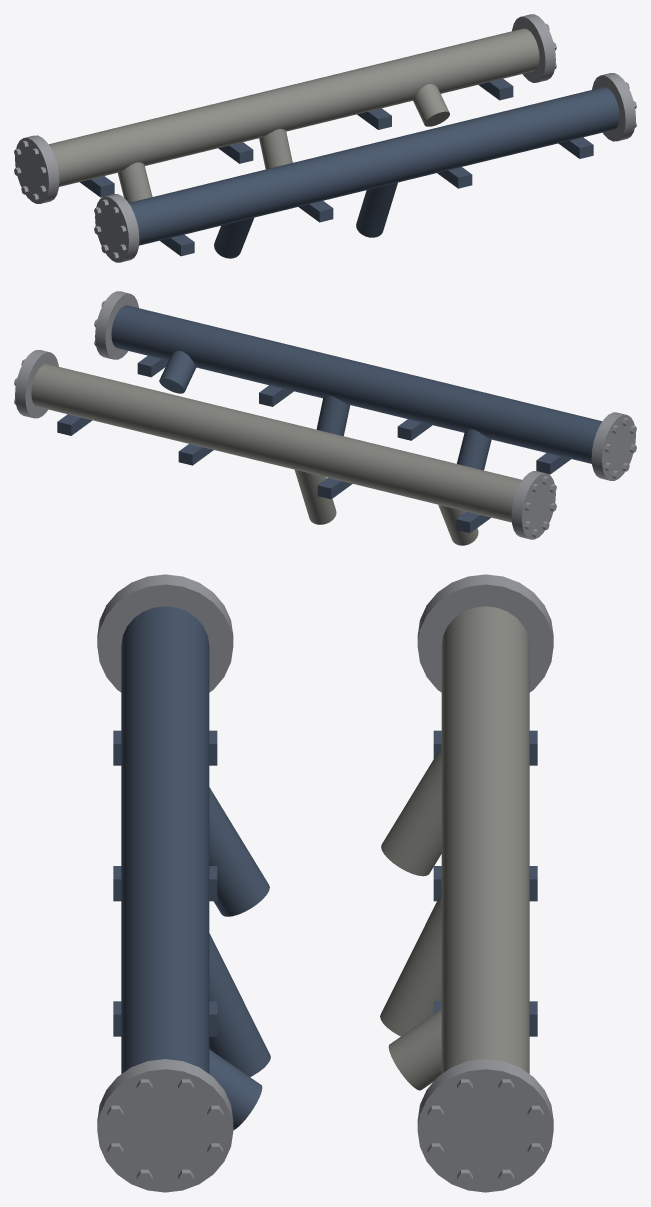
The model's file is ko300_pipes.obj.
The picture shows the model from 3 angles, top to bottom: view 1: azimuth 30°, elevation 25°; view 2: azimuth 150°, elevation 25°; view 3: azimuth 270°, elevation 25°; orthographic projection. The views are drawn at different scales.
Parts seen in each view (by area): view 1: ko300_pipes; view 2: ko300_pipes; view 3: ko300_pipes.
Part boxes in pixels (box(x1,y1,x2,y2)): ko300_pipes: box(14, 14, 636, 262); ko300_pipes: box(14, 291, 636, 545); ko300_pipes: box(97, 574, 553, 1192).
Size of the model in its own units: 2.96 by 0.6409 by 1.14.
